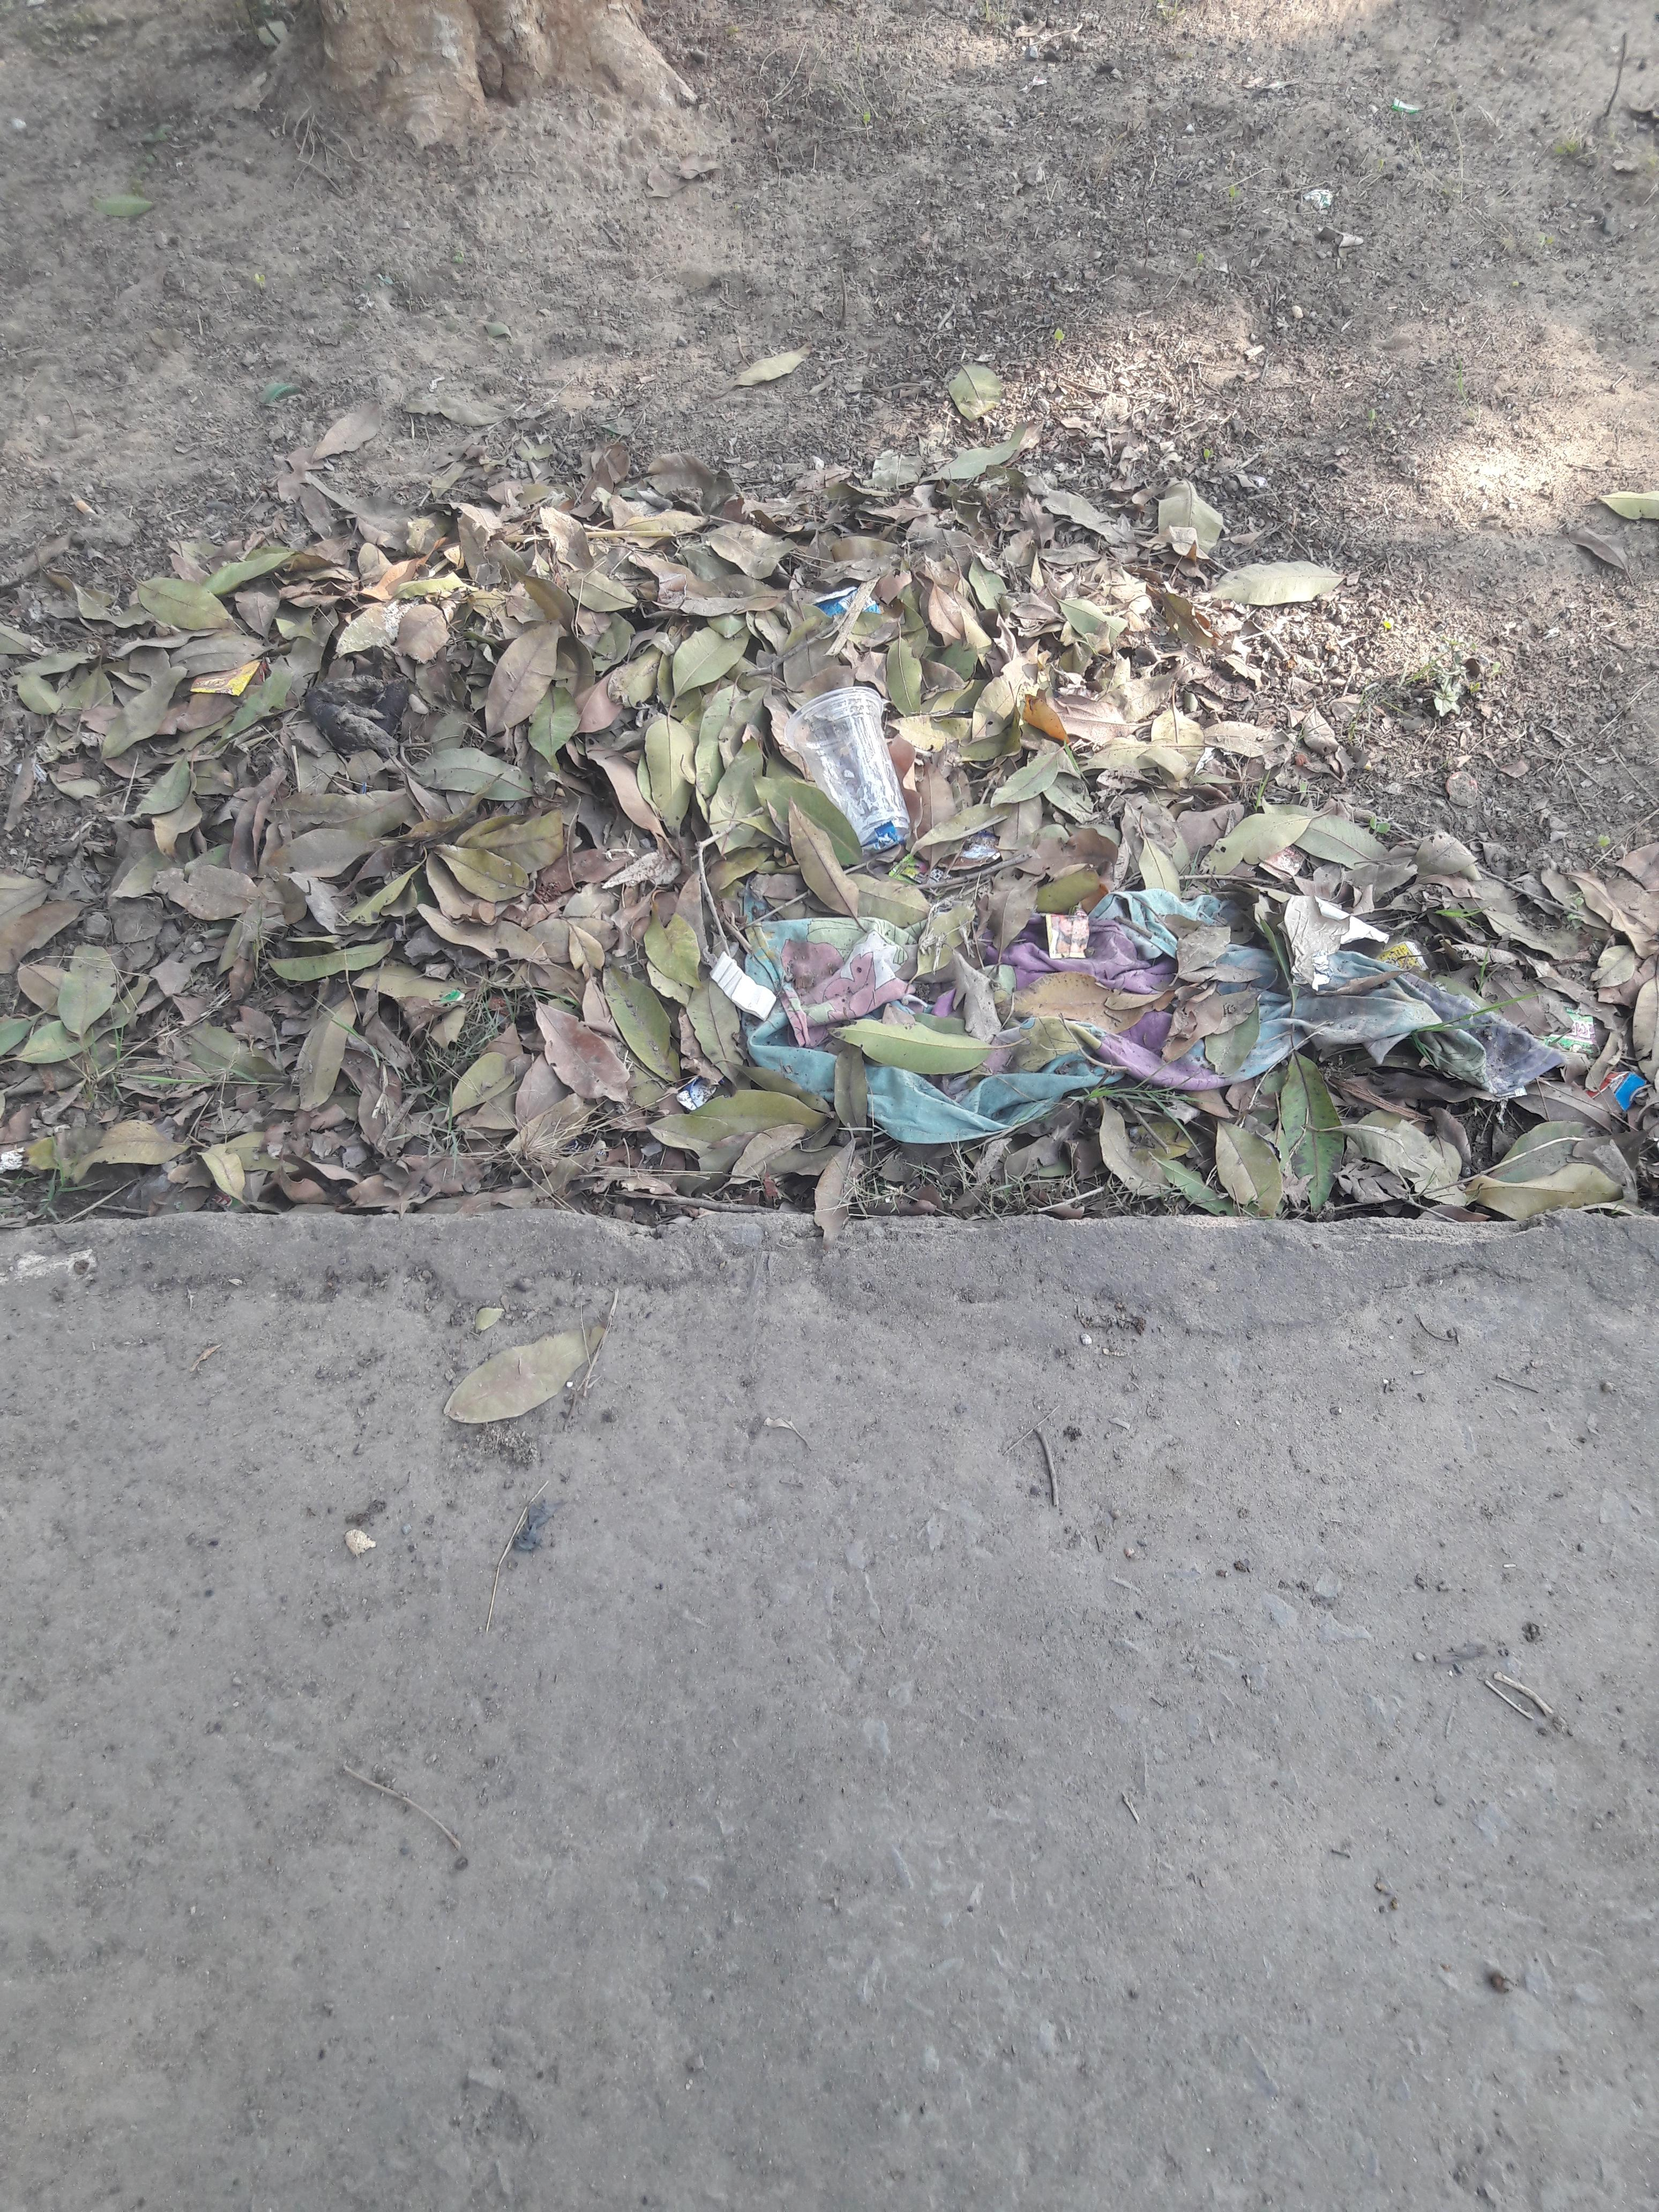trash: (19, 460, 1495, 1193)
